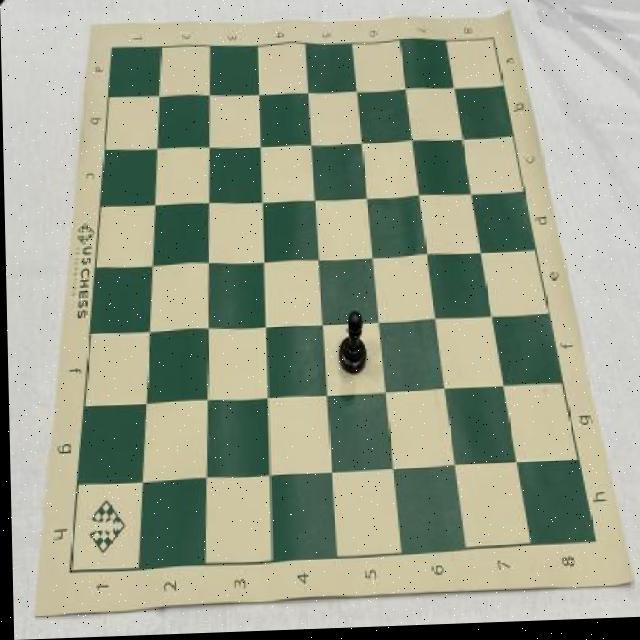black-knight: (335, 309, 368, 379)
